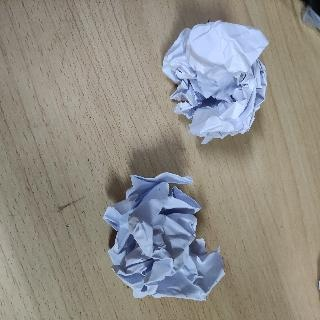8/可回收垃圾/纸: (102, 172, 227, 301), (162, 20, 269, 144)
